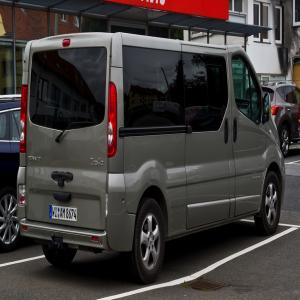Vehicle-registration-plate: (47, 206, 79, 230)
